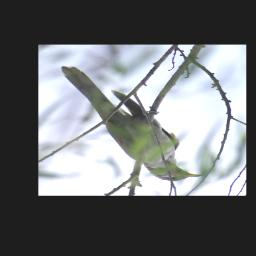Cuckoo: (53, 64, 201, 182)
